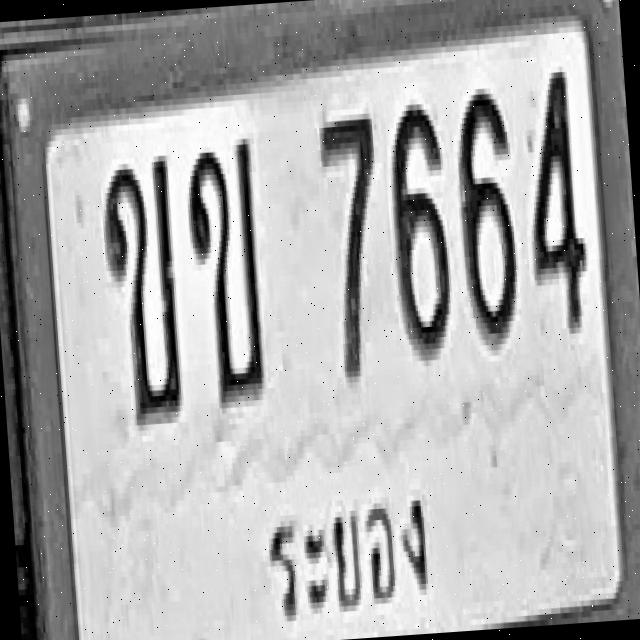11KhorKhai: (99, 152, 184, 424), (183, 138, 267, 404)
4: (520, 66, 588, 330)
6: (386, 100, 454, 359), (452, 87, 520, 346)
7: (317, 110, 388, 380)
Rayong: (252, 469, 444, 640)
